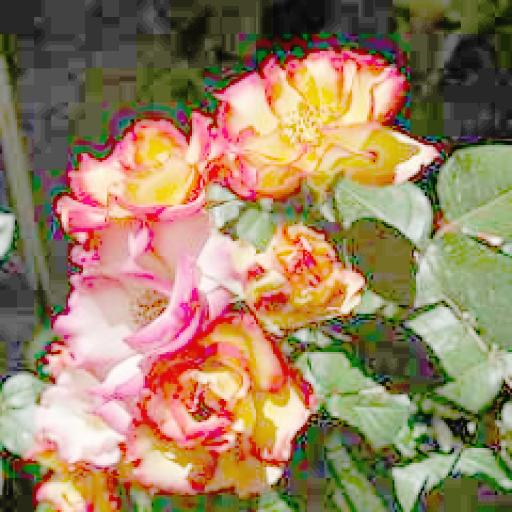rose: (100, 309, 310, 495), (209, 49, 429, 196), (60, 113, 211, 230)
